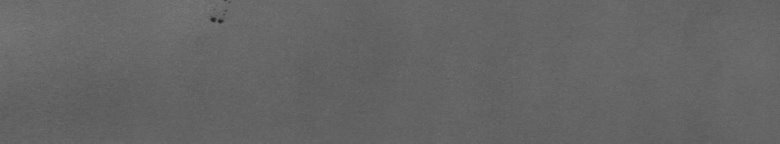fi: (206, 8, 228, 32)
